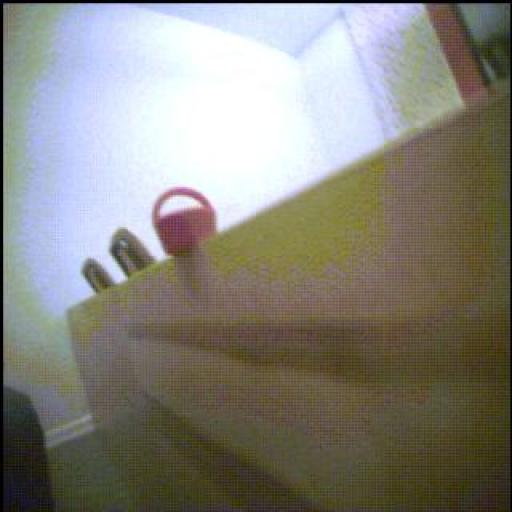Bucket: (149, 185, 229, 257)
